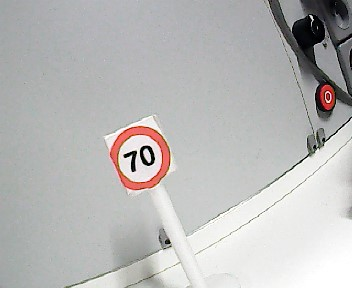70-bord: (110, 126, 171, 189)
